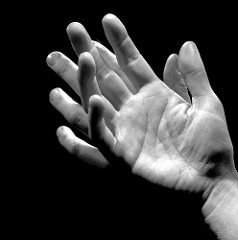palm: (113, 88, 218, 182)
